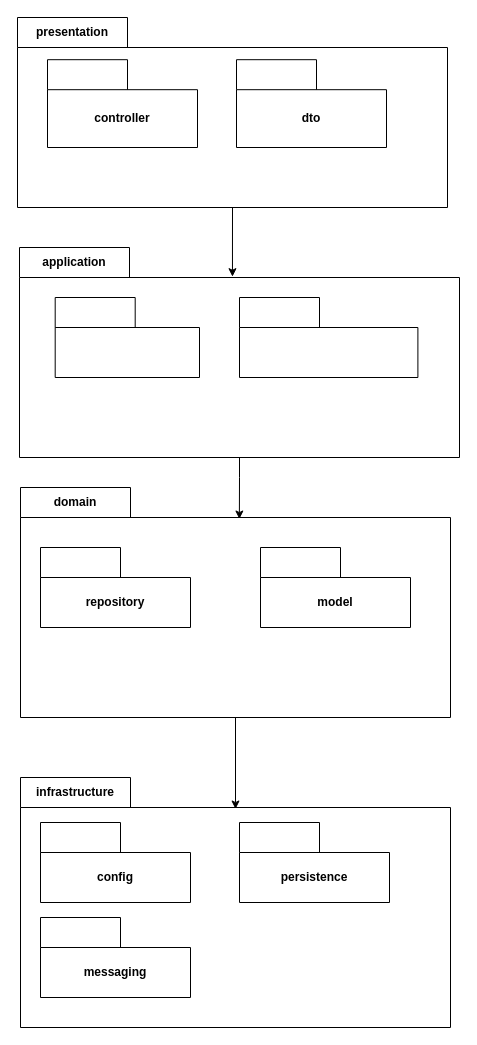
Some shapes in this 477 by 1045 pixel diagram are drawn without their labels. Each missing label, with the centre of its shape:
port: pixel 328 337
service: pixel 127 337
